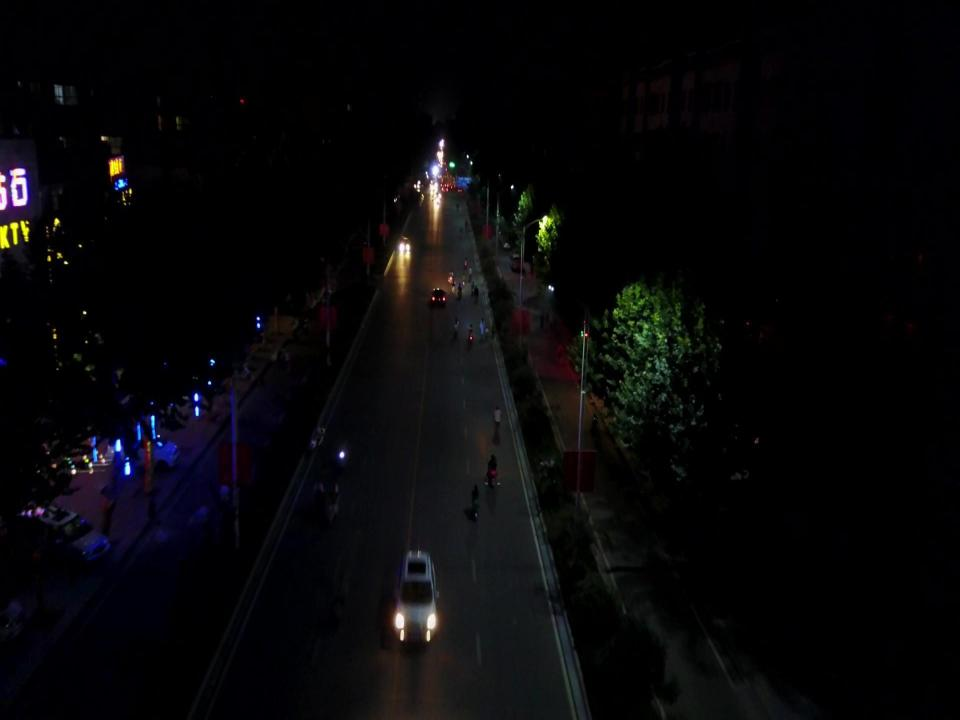car: (8, 503, 111, 568), (392, 550, 440, 643), (114, 432, 181, 475), (431, 288, 447, 307), (399, 237, 411, 252), (498, 229, 508, 243), (501, 238, 511, 249)
van: (510, 253, 522, 272)
